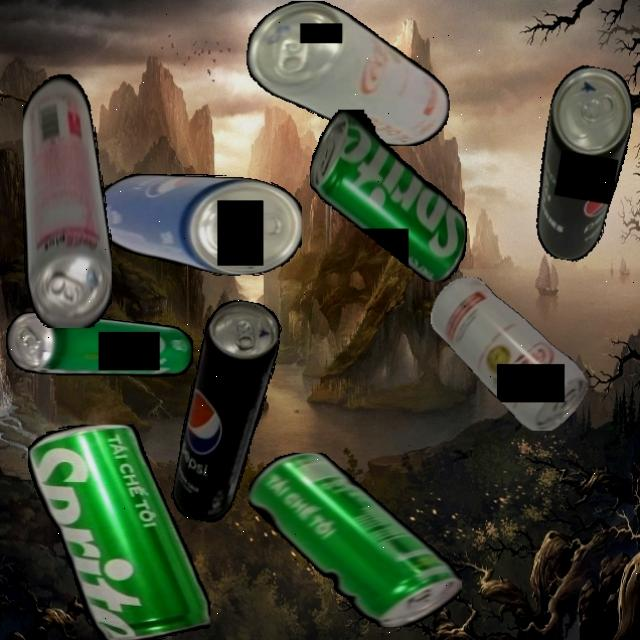debris: (28, 423, 210, 640), (248, 452, 462, 627), (246, 0, 450, 146), (309, 108, 467, 282), (168, 295, 285, 528), (430, 276, 588, 430), (525, 61, 640, 267), (22, 68, 112, 328), (95, 174, 302, 276), (6, 311, 193, 377)
